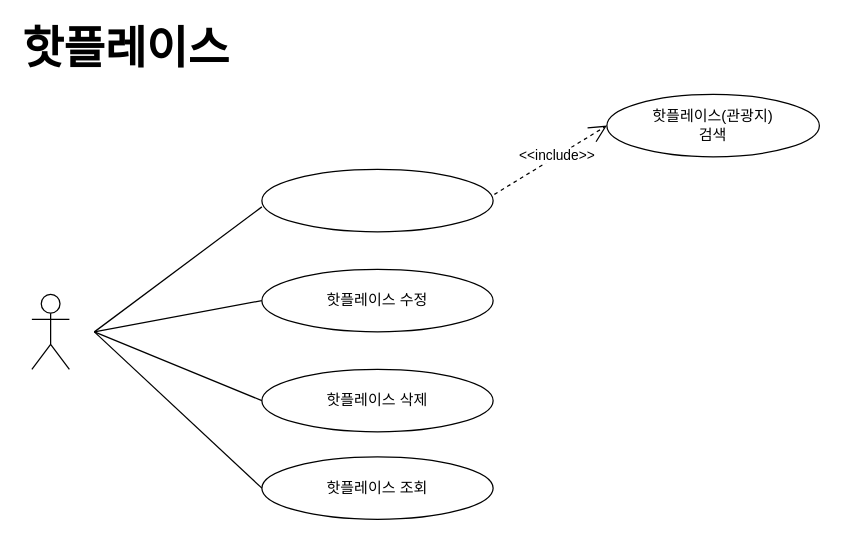
Some shapes in this 841 by 541 pixel diagram are drawn without their labels. Each missing label, with the box of its shape:
사용자: (31, 293, 69, 369)
핫플레이스 등록: (261, 168, 493, 232)
